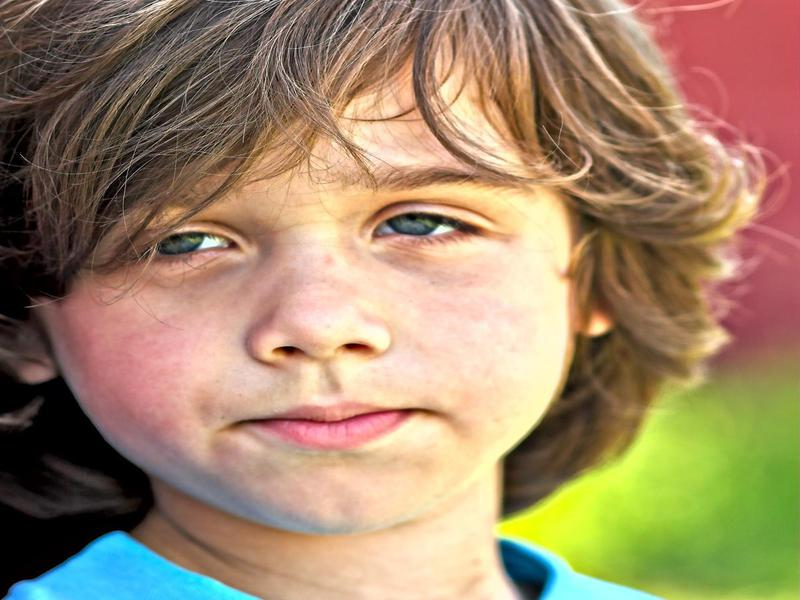person: (1, 1, 707, 599)
